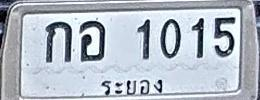0: (160, 18, 181, 58)
1: (136, 18, 150, 60), (191, 17, 204, 58)
5: (214, 16, 236, 57)
A01: (45, 20, 72, 62)
A43: (79, 20, 105, 61)
RYG: (98, 75, 167, 98)
